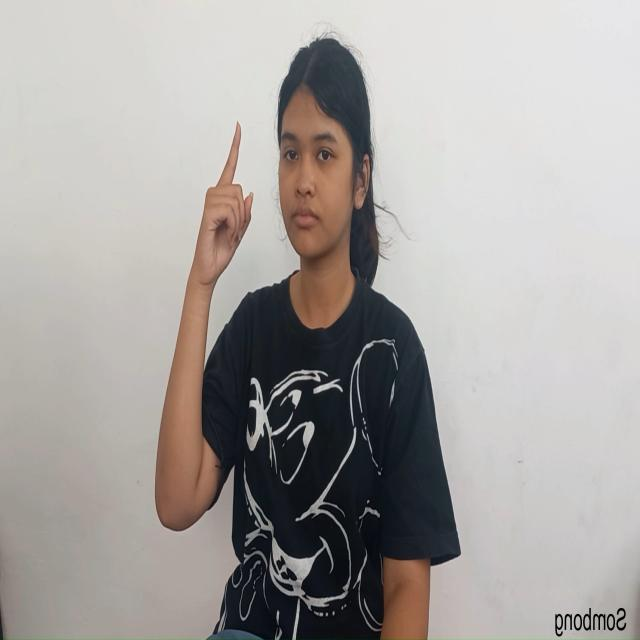Sombong -BISINDO-: (154, 117, 255, 535)
